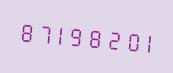eight: (85, 19, 101, 54), (17, 14, 33, 48)
nine: (68, 18, 84, 52)
one: (51, 16, 67, 51), (136, 24, 152, 58)
seven: (34, 15, 50, 49)
two: (102, 21, 118, 55)
zero: (119, 22, 135, 57)
